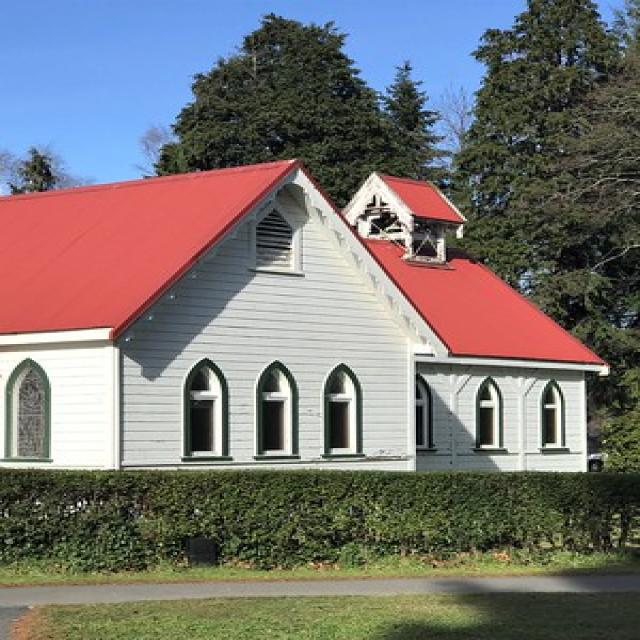building: (2, 156, 608, 478)
